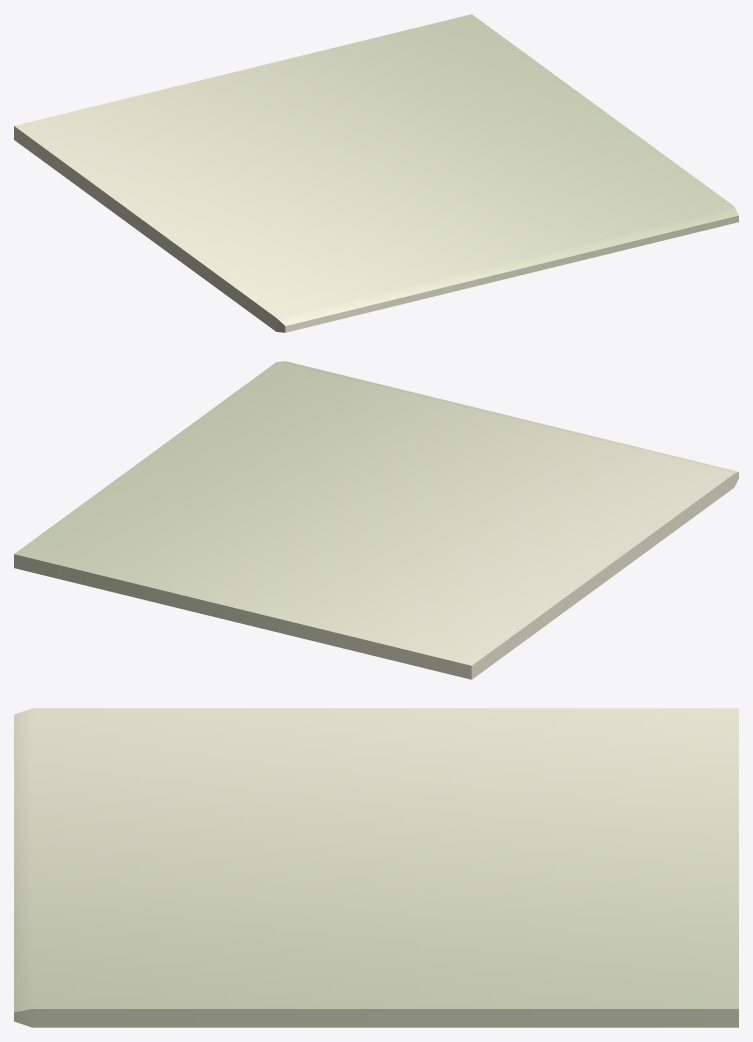
File: Counter_Door_A.FBX
The picture shows the model from 3 angles, top to bottom: view 1: azimuth 30°, elevation 25°; view 2: azimuth 150°, elevation 25°; view 3: azimuth 270°, elevation 25°; orthographic projection. The views are drawn at different scales.
Parts seen in each view (by area): view 1: Counter_door; view 2: Counter_door; view 3: Counter_door.
Part boxes in pixels (bbox=[...]): Counter_door: bbox=[14, 14, 738, 332]; Counter_door: bbox=[14, 361, 738, 679]; Counter_door: bbox=[14, 708, 738, 1027].
Size of the model in its own units: 196 by 5.71 by 199.
